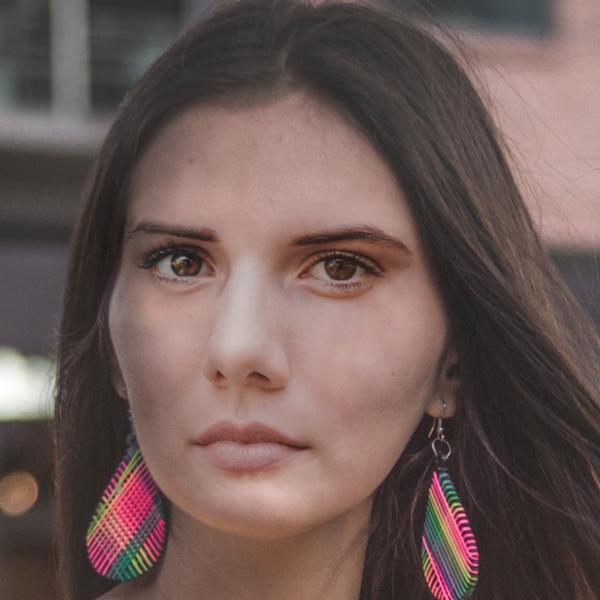Eyes: (286, 241, 388, 302), (131, 231, 223, 297)
